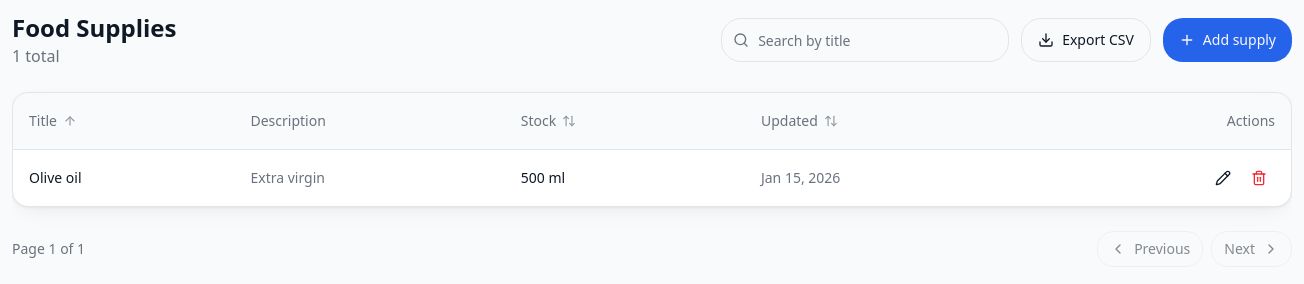
Test case: AdminFoodSuppliesPage › toggles active sort column to descending
The width and height of the screenshot is (1304, 284).
Expected: the text "Olive oil" is shown, [29,168,82,188]
Click the button with aria-label "Sort by title ascending": (53, 121) [21,105,85,137]
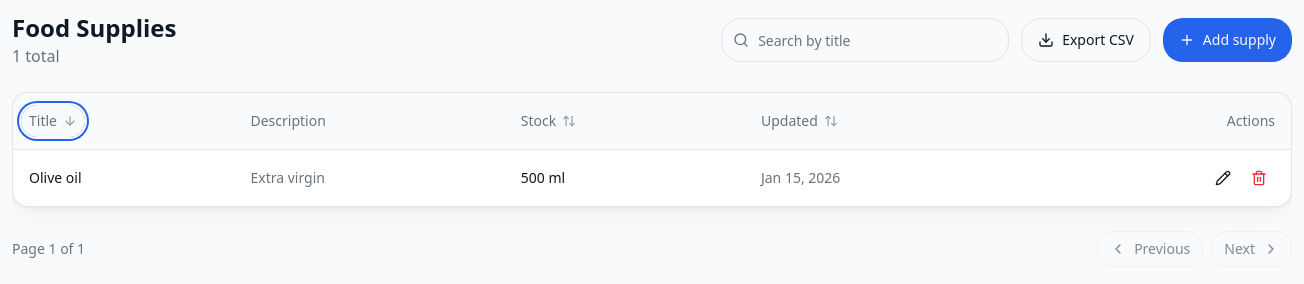
Expected: the button with aria-label "Sort by title descending" is shown, [21,105,85,137]
